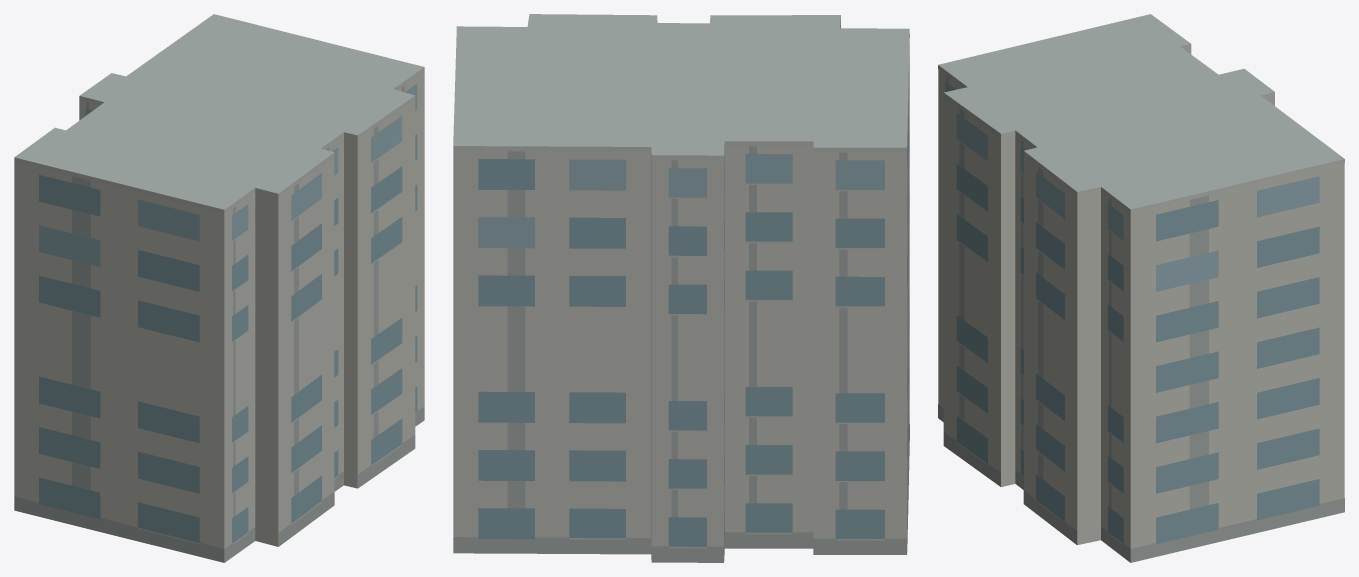
The model's file is survey-upis-32695355.glb.
The picture shows the model from 3 angles, left to right: view 1: azimuth 30°, elevation 25°; view 2: azimuth 150°, elevation 25°; view 3: azimuth 270°, elevation 25°; orthographic projection. The views are drawn at different scales.
Visible parts, largest first — view 1: survey-upis-32695355.tmp; view 2: survey-upis-32695355.tmp; view 3: survey-upis-32695355.tmp.
Boxes of the visible parts, bbox=[...] form: survey-upis-32695355.tmp: bbox=[14, 14, 424, 562]; survey-upis-32695355.tmp: bbox=[453, 14, 909, 562]; survey-upis-32695355.tmp: bbox=[938, 14, 1344, 562].
Bounding box in the file's own units: 23.62 × 19.9 × 20.76.
